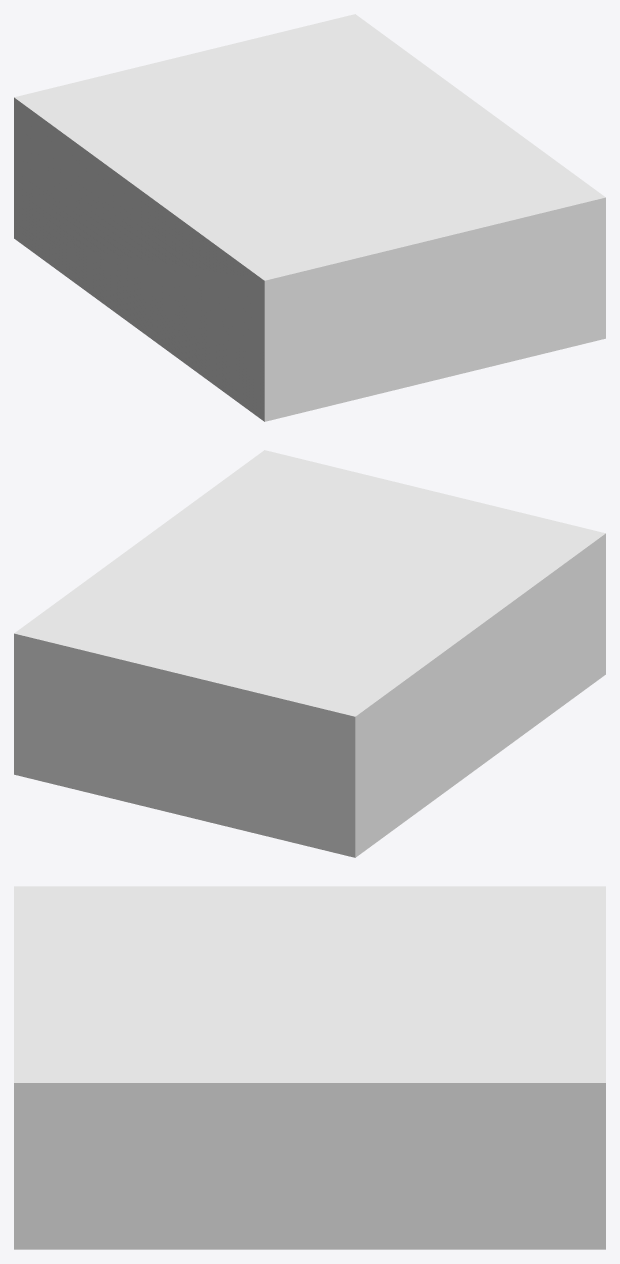
The model's file is nft_3d_art_gallery_-_luciano_robur.glb.
The picture shows the model from 3 angles, top to bottom: view 1: azimuth 30°, elevation 25°; view 2: azimuth 150°, elevation 25°; view 3: azimuth 270°, elevation 25°; orthographic projection. The views are drawn at different scales.
Parts seen in each view (by area): view 1: Cube.001; view 2: Cube.001; view 3: Cube.001.
Boxes of the visible parts, <box> form: Cube.001: <box>14,14,605,421</box>; Cube.001: <box>14,450,605,857</box>; Cube.001: <box>14,886,605,1249</box>.
Bounding box in the file's own units: 8.11 × 3.2 × 10.31.
15 materials, 14 textured.
